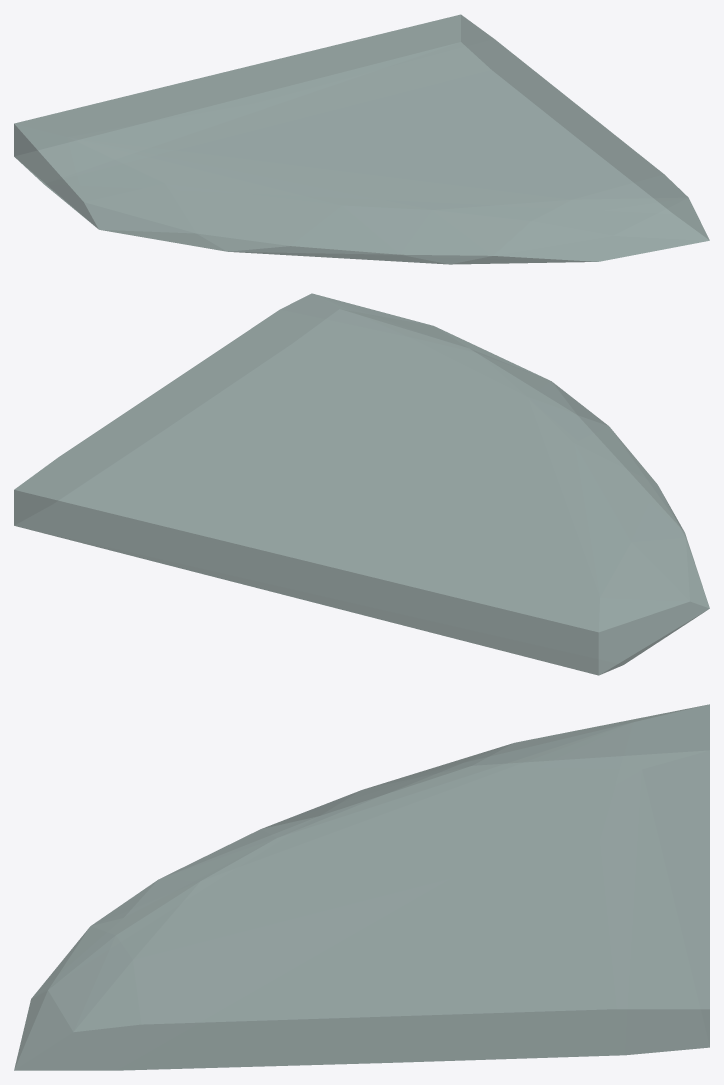
3 views of the same model, one above another, from view 1: azimuth 30°, elevation 25°; view 2: azimuth 150°, elevation 25°; view 3: azimuth 270°, elevation 25° (orthographic). The views are drawn at different scales.
Visible parts, largest first — view 1: Shape_IndexedFaceSet.010_Shape_IndexedFaceSet.1378; view 2: Shape_IndexedFaceSet.010_Shape_IndexedFaceSet.1378; view 3: Shape_IndexedFaceSet.010_Shape_IndexedFaceSet.1378.
Part boxes in pixels (<box>): Shape_IndexedFaceSet.010_Shape_IndexedFaceSet.1378: <box>14,14,709,264</box>; Shape_IndexedFaceSet.010_Shape_IndexedFaceSet.1378: <box>14,293,709,675</box>; Shape_IndexedFaceSet.010_Shape_IndexedFaceSet.1378: <box>14,704,709,1070</box>.
Bounding box in the file's own units: 0.2073 × 0.0195 × 0.2.
